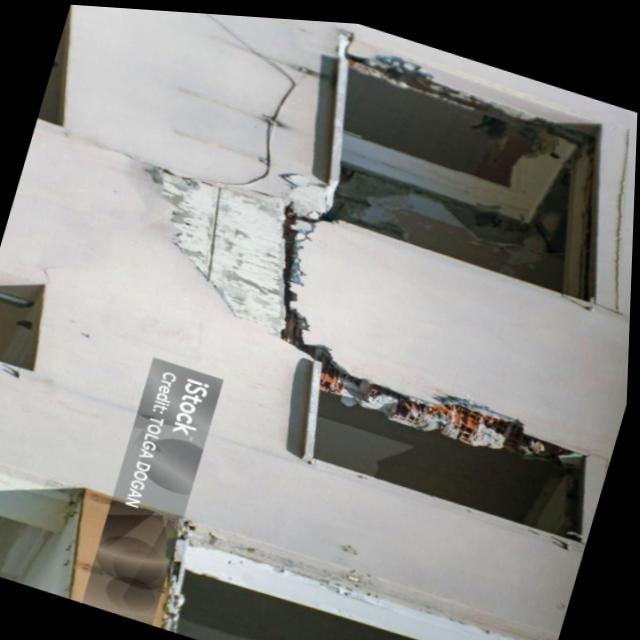Crack: (232, 180, 370, 359)
